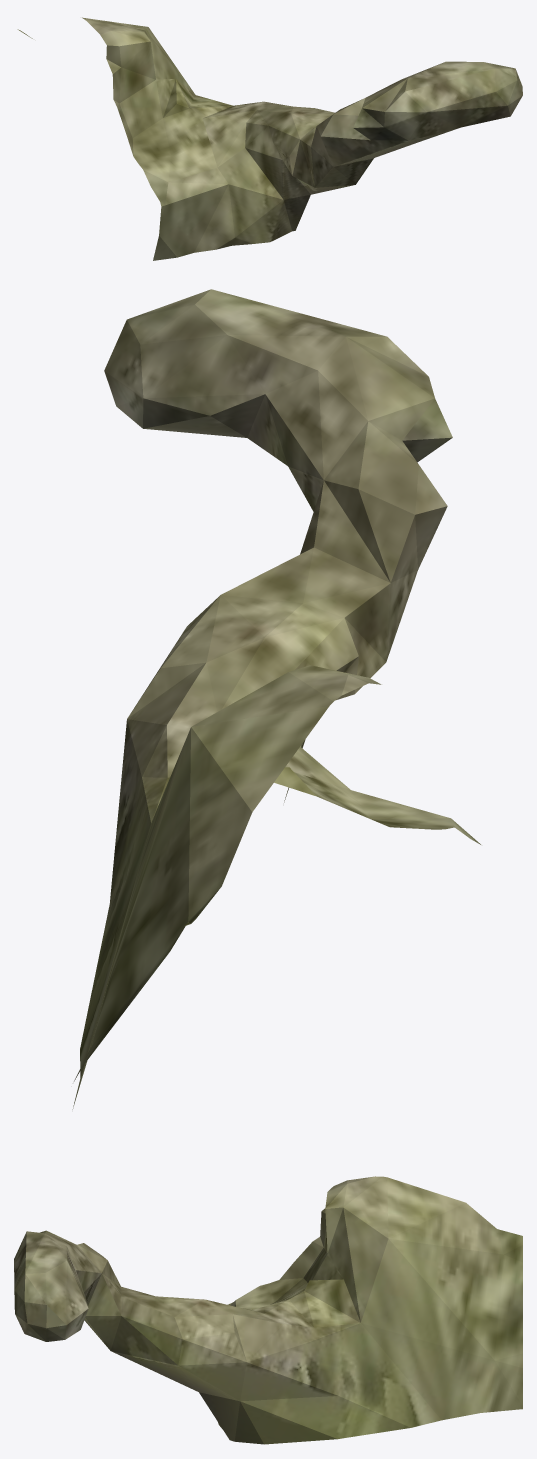
The picture shows the model from 3 angles, top to bottom: view 1: azimuth 30°, elevation 25°; view 2: azimuth 150°, elevation 25°; view 3: azimuth 270°, elevation 25°; orthographic projection. The views are drawn at different scales.
Bounding box in the file's own units: 1.33 × 0.9885 × 2.09.
1 material, 1 textured.
